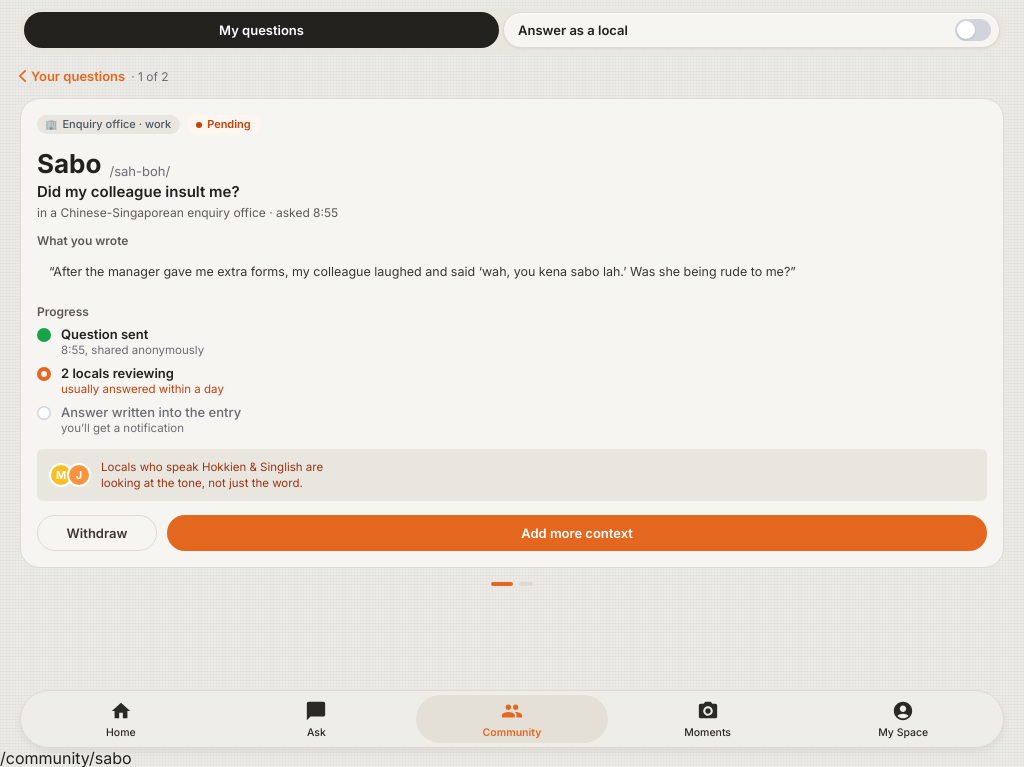
Add more context appends to what I wrote
(page scrolled)
Click the button "Add more context" at (577, 533), box top-left (167, 515), bottom-right (987, 551)
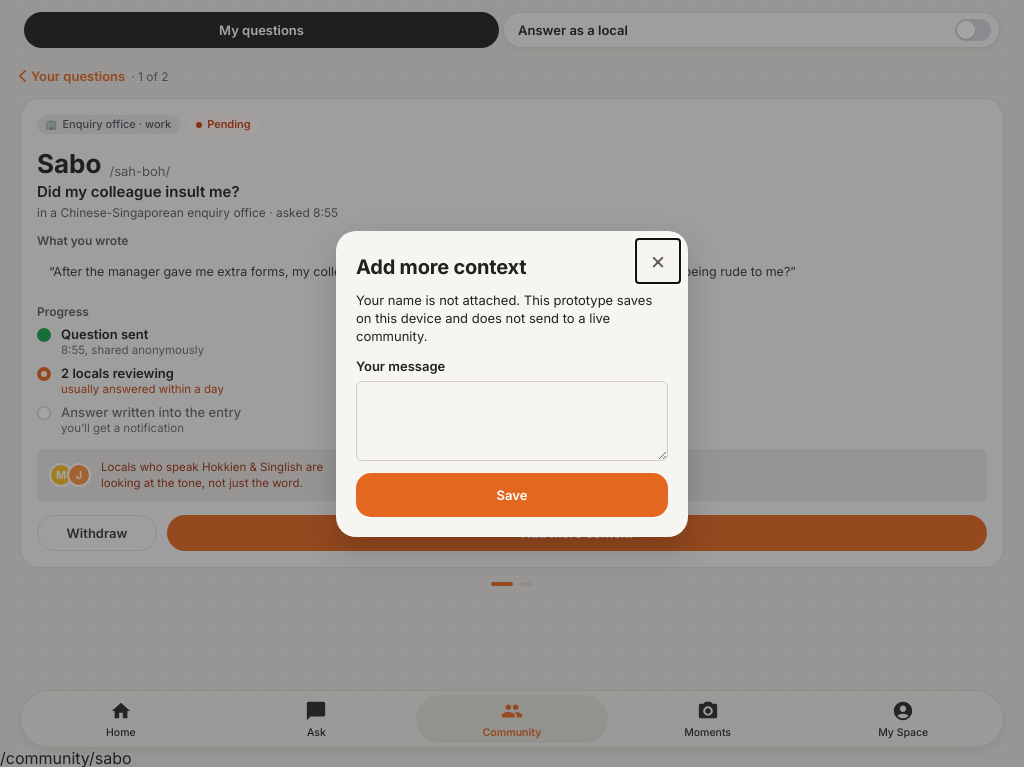
Now the text "Your name is not attached" is shown, box top-left (356, 292), bottom-right (652, 344)
Type "She was smiling." into the text box labelled "Your message" at (512, 421), box top-left (356, 381), bottom-right (668, 461)
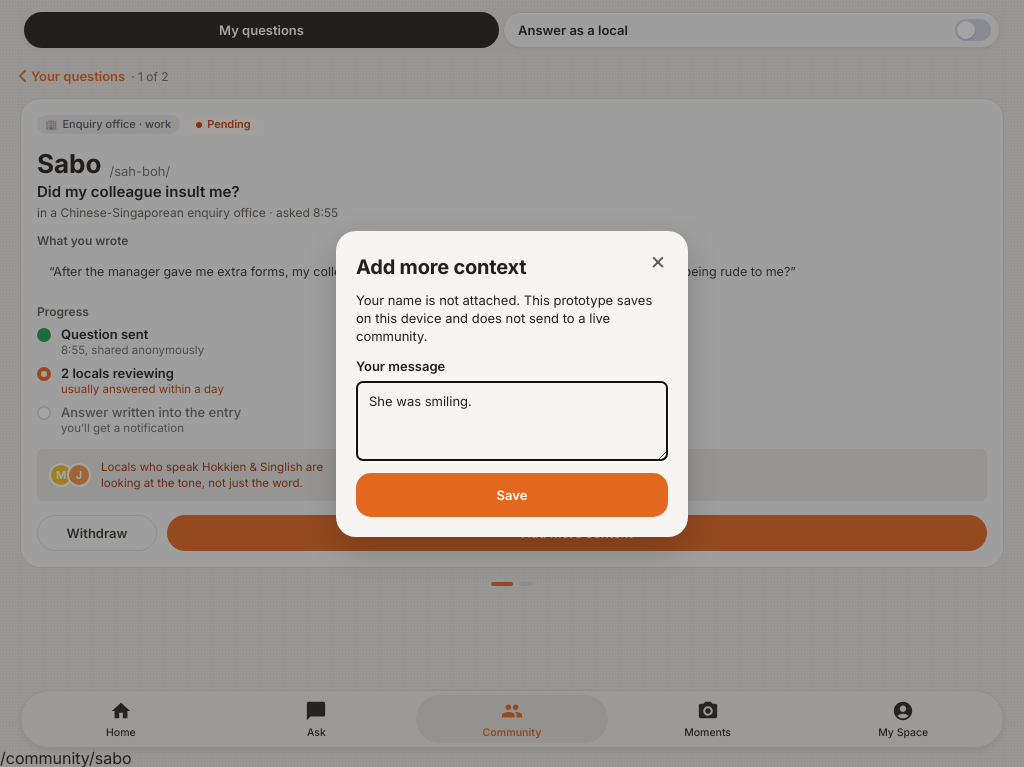
Click the button "Save" at (512, 495), box top-left (356, 473), bottom-right (668, 517)
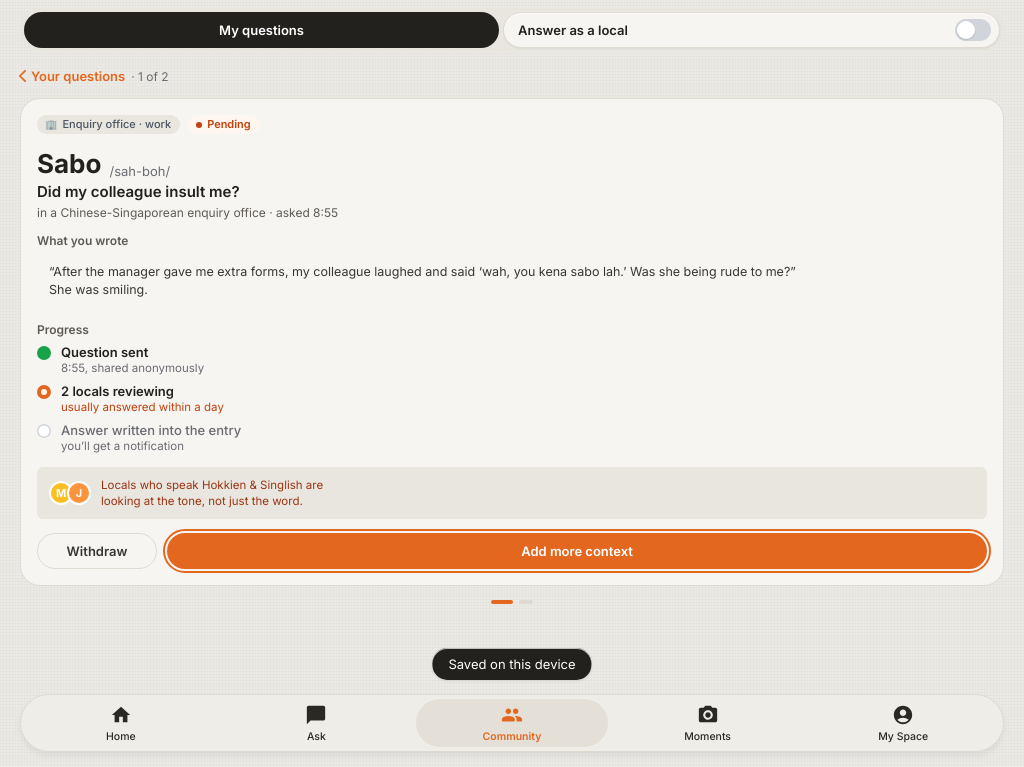
Now the dialog is gone
Now the text "she was smiling." is shown, box top-left (49, 264), bottom-right (796, 297)
Now the message reads "Saved on this device", box top-left (448, 656), bottom-right (576, 672)
